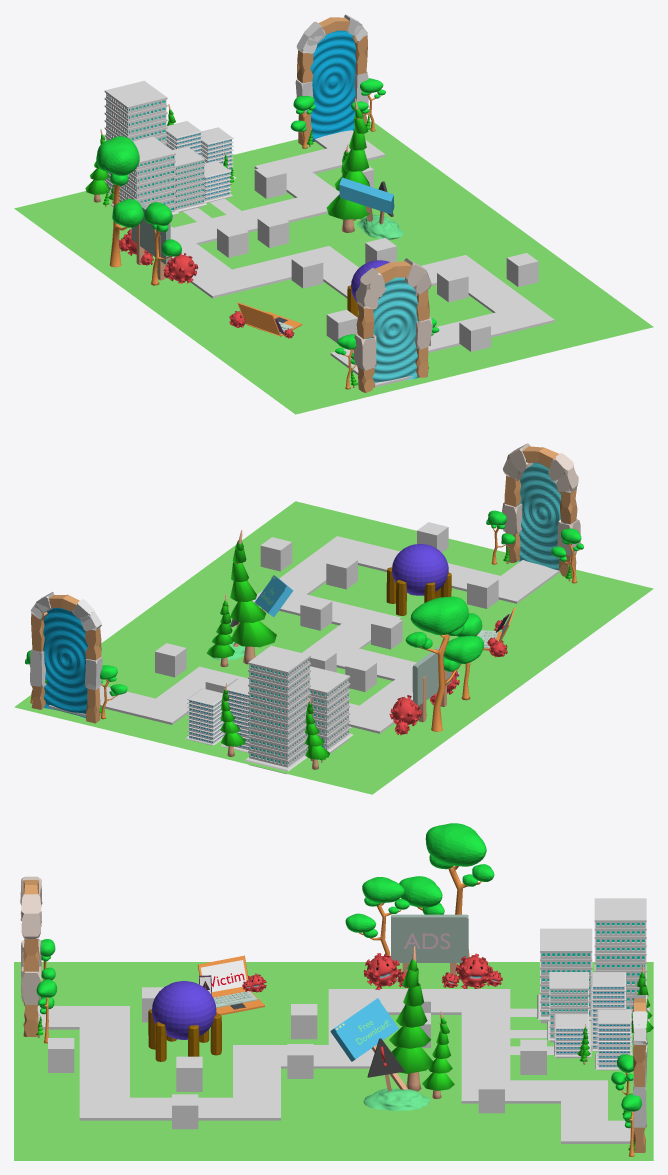
Rendered from Advertisement Map 3.fbx.
3 views of the same model, one above another, from view 1: azimuth 30°, elevation 25°; view 2: azimuth 150°, elevation 25°; view 3: azimuth 270°, elevation 25° (orthographic). The views are drawn at different scales.
Parts seen in each view (by area): view 1: Plane, Cube, Plane.004, Plane.007, Plane.023, Plane.006, Icosphere.006, Circle.008, Plane.011, Icosphere.005, Cube.002, Plane.018 (+18 smaller); view 2: Plane, Cube, Plane.007, Plane.004, Plane.023, Icosphere.006, Plane.006, Circle.008, Sphere.010, Plane.025, Plane.018, Plane.021 (+18 smaller); view 3: Plane, Cube, Icosphere.006, Plane.023, Plane.018, Plane.004, Circle.008, Plane.006, Sphere.010, Cube.002, Plane.028, Plane.007 (+20 smaller).
Part boxes in pixels (bbox=[...]): Plane: bbox=[14, 121, 653, 414]; Cube: bbox=[168, 130, 554, 387]; Plane.004: bbox=[353, 258, 432, 392]; Plane.007: bbox=[295, 14, 368, 145]; Plane.023: bbox=[104, 80, 167, 189]; Plane.006: bbox=[113, 136, 175, 211]; Icosphere.006: bbox=[96, 136, 143, 267]; Circle.008: bbox=[326, 98, 372, 232]; Plane.011: bbox=[172, 146, 204, 209]; Icosphere.005: bbox=[144, 202, 181, 285]; Cube.002: bbox=[339, 177, 394, 221]; Plane.018: bbox=[131, 199, 170, 280]; Plane: bbox=[14, 501, 653, 794]; Cube: bbox=[48, 536, 559, 733]; Plane.007: bbox=[30, 592, 102, 723]; Plane.004: bbox=[502, 443, 580, 576]; Plane.023: bbox=[248, 645, 310, 767]; Icosphere.006: bbox=[405, 596, 482, 731]; Plane.006: bbox=[309, 666, 350, 749]; Circle.008: bbox=[230, 530, 276, 664]; Sphere.010: bbox=[392, 544, 448, 595]; Plane.025: bbox=[187, 688, 224, 743]; Plane.018: bbox=[412, 641, 451, 722]; Plane.021: bbox=[223, 678, 249, 749]; Plane: bbox=[14, 962, 653, 1160]; Cube: bbox=[37, 989, 633, 1143]; Icosphere.006: bbox=[399, 823, 494, 965]; Plane.023: bbox=[594, 898, 646, 1020]; Plane.018: bbox=[391, 914, 468, 974]; Plane.004: bbox=[20, 876, 42, 1036]; Circle.008: bbox=[389, 946, 433, 1091]; Plane.006: bbox=[540, 928, 592, 1016]; Sphere.010: bbox=[151, 981, 216, 1039]; Cube.002: bbox=[330, 998, 407, 1089]; Plane.028: bbox=[198, 955, 264, 1015]; Plane.007: bbox=[632, 995, 647, 1152].
Bounding box in the file's own units: 1894 × 675 × 2548.
